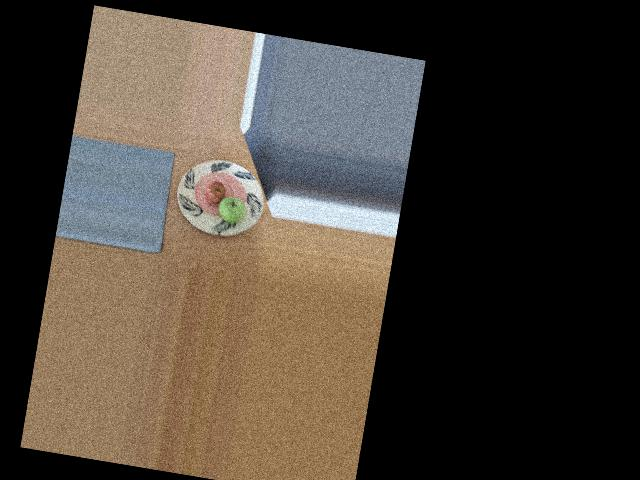apple: (216, 194, 248, 227)
